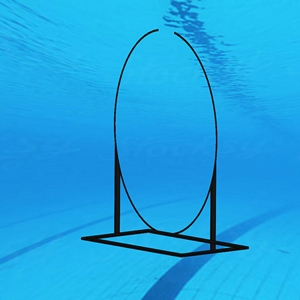circle: (78, 27, 251, 258)
